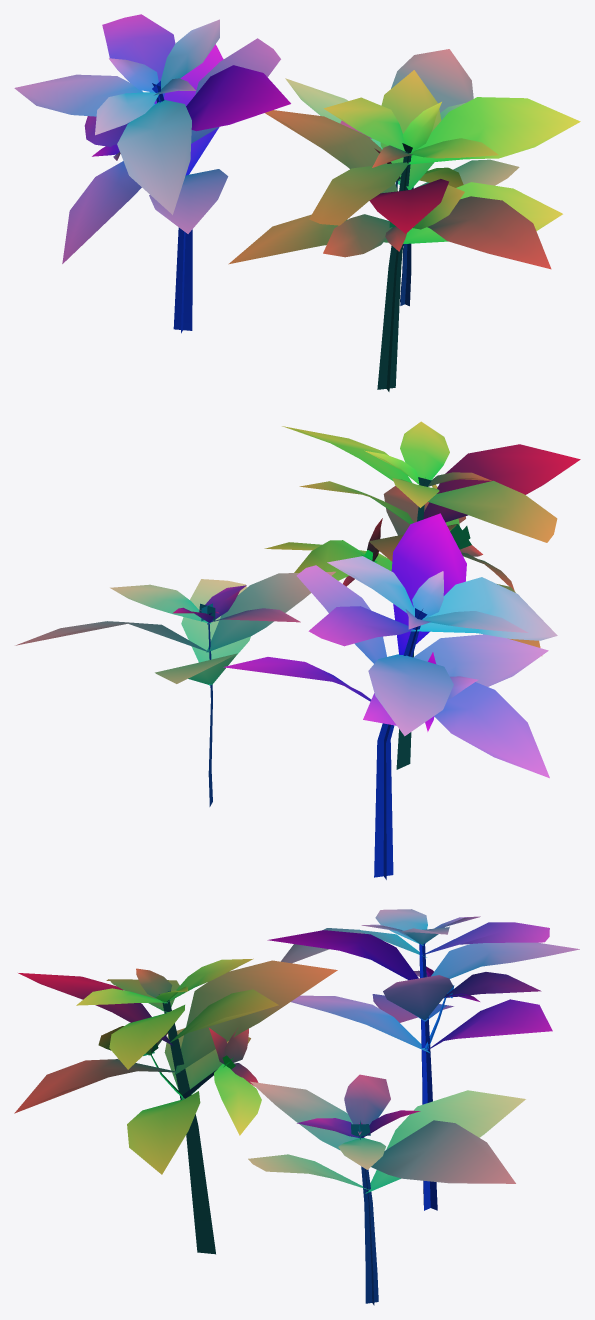
File: Common_Hemp_Nettle_xh1kdfbqx_Low_xh1kdfbqx_VarE_LOD1.fbx
3 views of the same model, one above another, from view 1: azimuth 30°, elevation 25°; view 2: azimuth 150°, elevation 25°; view 3: azimuth 270°, elevation 25° (orthographic). The views are drawn at different scales.
Parts seen in each view (by area): view 1: _tqre_VarE_LOD3; view 2: _tqre_VarE_LOD3; view 3: _tqre_VarE_LOD3.
Boxes of the visible parts, x1,y1,x2,y2 form: _tqre_VarE_LOD3: (14, 14, 580, 391); _tqre_VarE_LOD3: (15, 421, 580, 879); _tqre_VarE_LOD3: (14, 909, 579, 1305).
Bounding box in the file's own units: 74.3 × 46.48 × 80.7.
